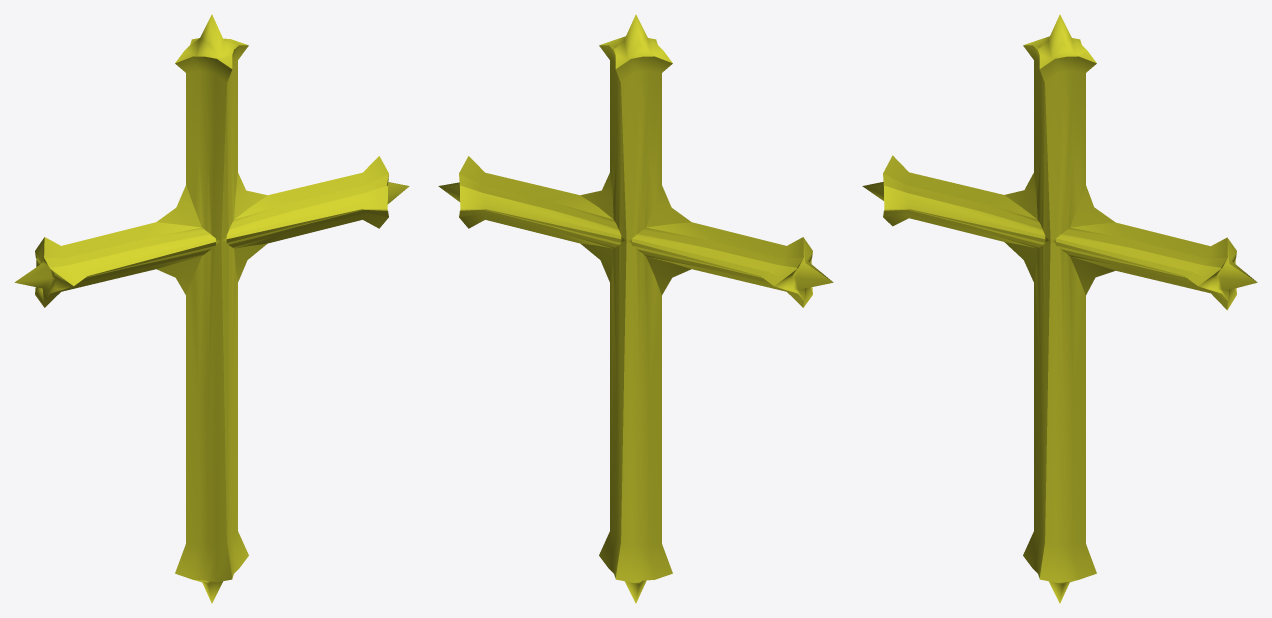
Rendered from GoldCross.fbx.
The picture shows the model from 3 angles, left to right: view 1: azimuth 30°, elevation 25°; view 2: azimuth 150°, elevation 25°; view 3: azimuth 330°, elevation 25°; orthographic projection.
Parts seen in each view (by area): view 1: GoldCross; view 2: GoldCross; view 3: GoldCross.
Boxes of the visible parts, x1=… form: GoldCross: x1=14, y1=14, x2=409, y2=603; GoldCross: x1=438, y1=14, x2=833, y2=603; GoldCross: x1=862, y1=14, x2=1257, y2=603.
Bounding box in the file's own units: 2.66 × 3.79 × 0.4769.
